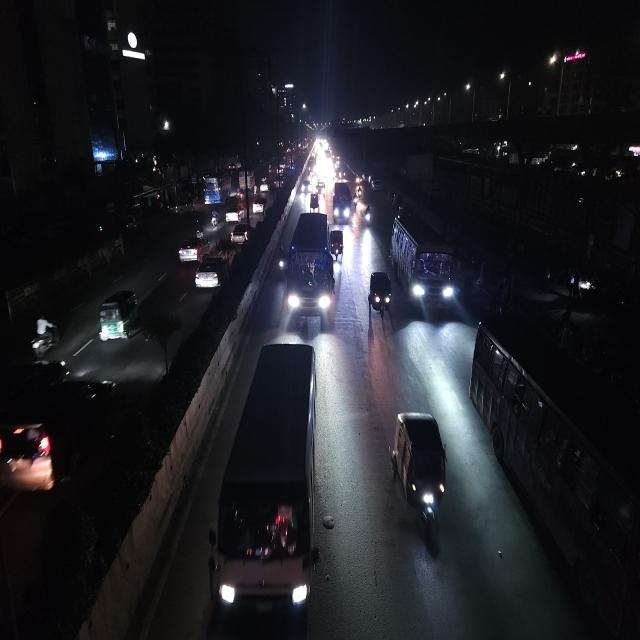bus: (469, 306, 639, 640), (219, 333, 318, 638), (388, 212, 461, 314), (290, 208, 332, 329), (334, 180, 354, 226), (202, 173, 228, 206), (236, 167, 254, 189)
car: (0, 364, 125, 504), (192, 252, 226, 296), (177, 231, 209, 260), (226, 217, 252, 246), (252, 199, 268, 219), (300, 182, 312, 195), (259, 183, 270, 197), (315, 179, 325, 193)
cng: (390, 399, 450, 539), (96, 289, 138, 349), (365, 265, 396, 324), (327, 230, 345, 263), (334, 229, 335, 230)
motorcycle: (26, 315, 64, 358), (274, 246, 288, 283), (308, 194, 322, 214), (362, 206, 372, 229), (210, 209, 220, 230), (357, 186, 363, 200)
